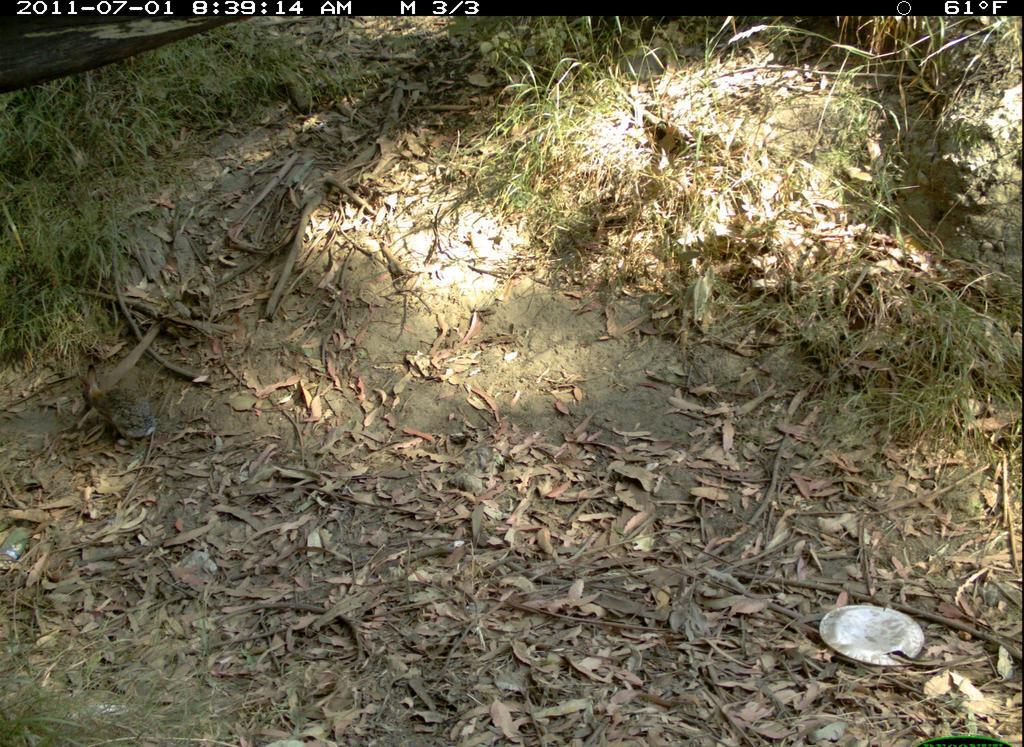rabbit: (73, 360, 162, 452)
